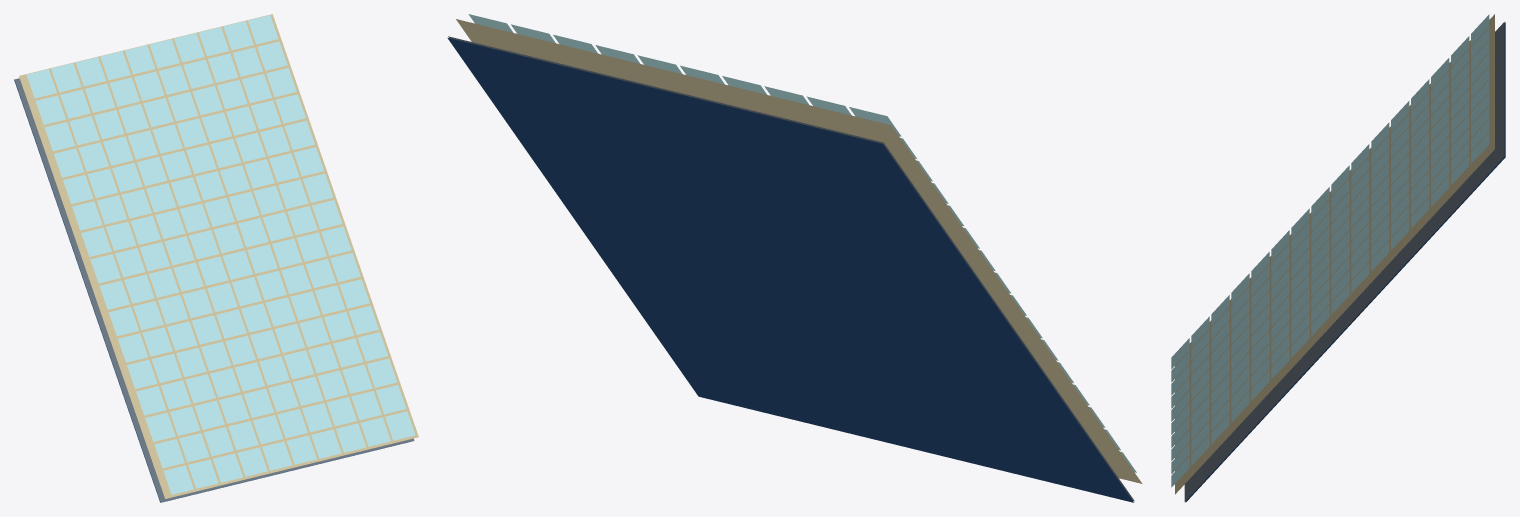
Rendered from cassette-v2-face1-beta50.obj.
3 renders of one model, left to right at view 1: azimuth 30°, elevation 25°; view 2: azimuth 150°, elevation 25°; view 3: azimuth 270°, elevation 25°, orthographic. The views are drawn at different scales.
Parts seen in each view (by area): view 1: xps_inner0, pv_back0, pv_front0, emitter_outer122, emitter_outer151, emitter_outer14, emitter_outer39, emitter_outer52, emitter_outer53, emitter_outer64, emitter_outer79, emitter_outer89 (+151 smaller); view 2: pv_front0, xps_inner0, pv_back0; view 3: xps_inner0, pv_back0, pv_front0.
Part boxes in pixels (box(x1,y1,x2,y2)): xps_inner0: box(19, 14, 418, 498); pv_back0: box(14, 78, 414, 502); pv_front0: box(14, 79, 413, 502); emitter_outer122: box(185, 374, 215, 403); emitter_outer151: box(188, 459, 218, 488); emitter_outer14: box(134, 71, 164, 100); emitter_outer39: box(275, 94, 305, 123); emitter_outer52: box(121, 189, 151, 218); emitter_outer53: box(146, 183, 176, 212); emitter_outer64: box(180, 203, 210, 232); emitter_outer79: box(312, 200, 342, 229); emitter_outer89: box(321, 226, 351, 255); pv_front0: box(447, 38, 1133, 502); xps_inner0: box(456, 19, 1142, 483); pv_back0: box(448, 36, 1134, 501); xps_inner0: box(1175, 14, 1494, 494); pv_back0: box(1184, 22, 1504, 501); pv_front0: box(1185, 22, 1505, 502).
Size of the model in its own units: 1.13 by 1.39 by 1.18.
